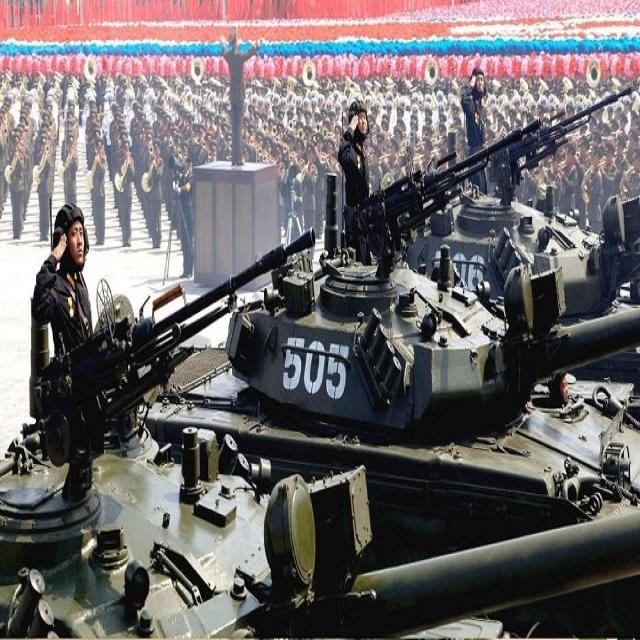north tank: (135, 178, 640, 595), (0, 350, 640, 640), (384, 121, 640, 375)
